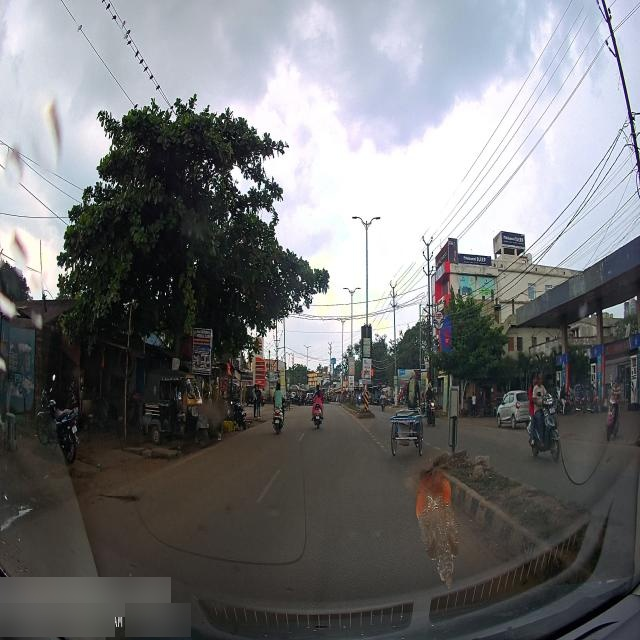pothole: (0, 500, 39, 534), (94, 488, 144, 509)
